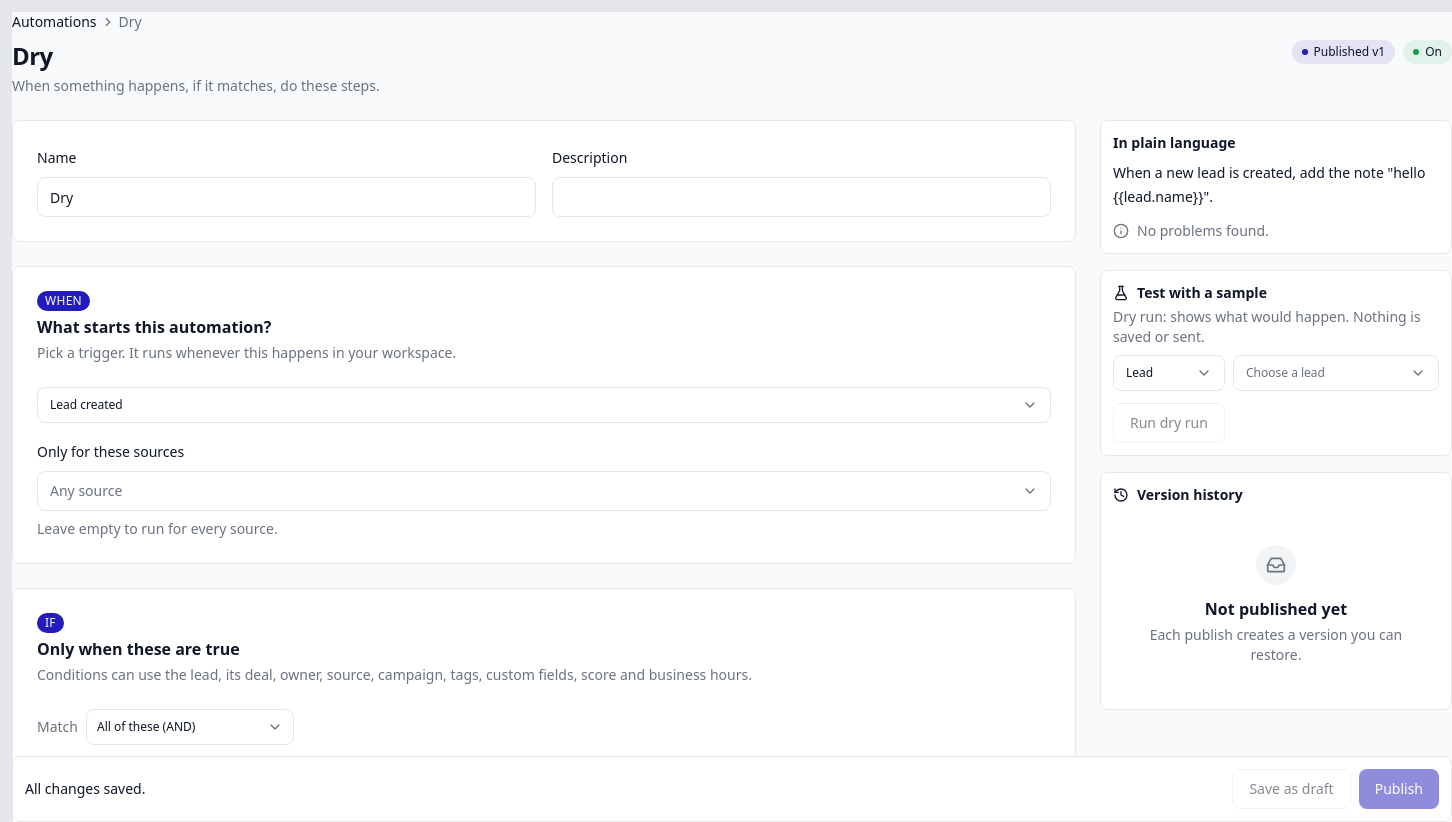
Test: automation builder › runs a dry run against a sample lead and shows what would happen
The width and height of the screenshot is (1452, 822).
Click the dropdown named "Sample record".
click(1336, 373)  # box [1233, 355, 1439, 391]
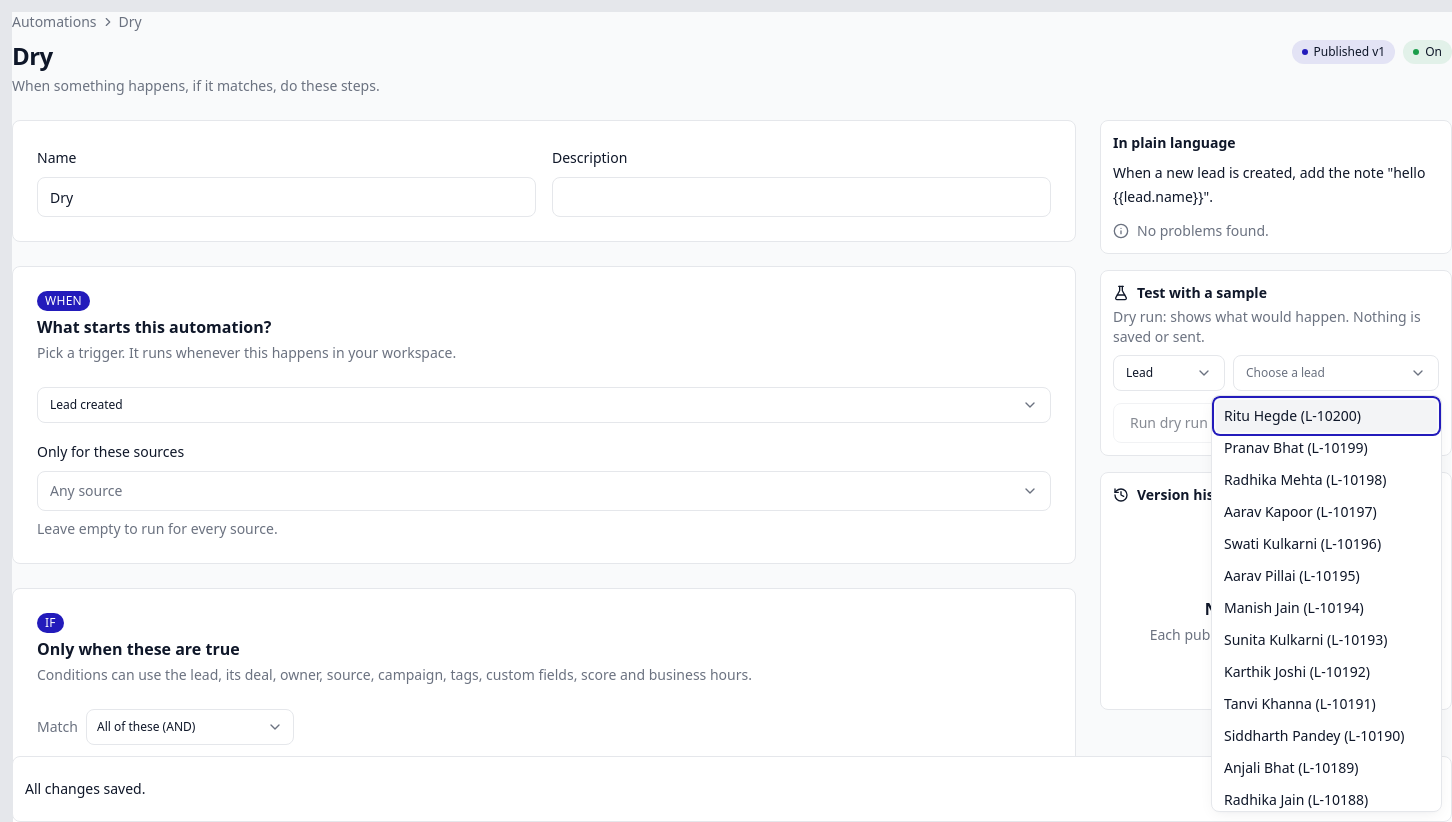
Click the option "Ritu Hegde (L-10200)".
click(1326, 416)  # box [1216, 400, 1437, 432]
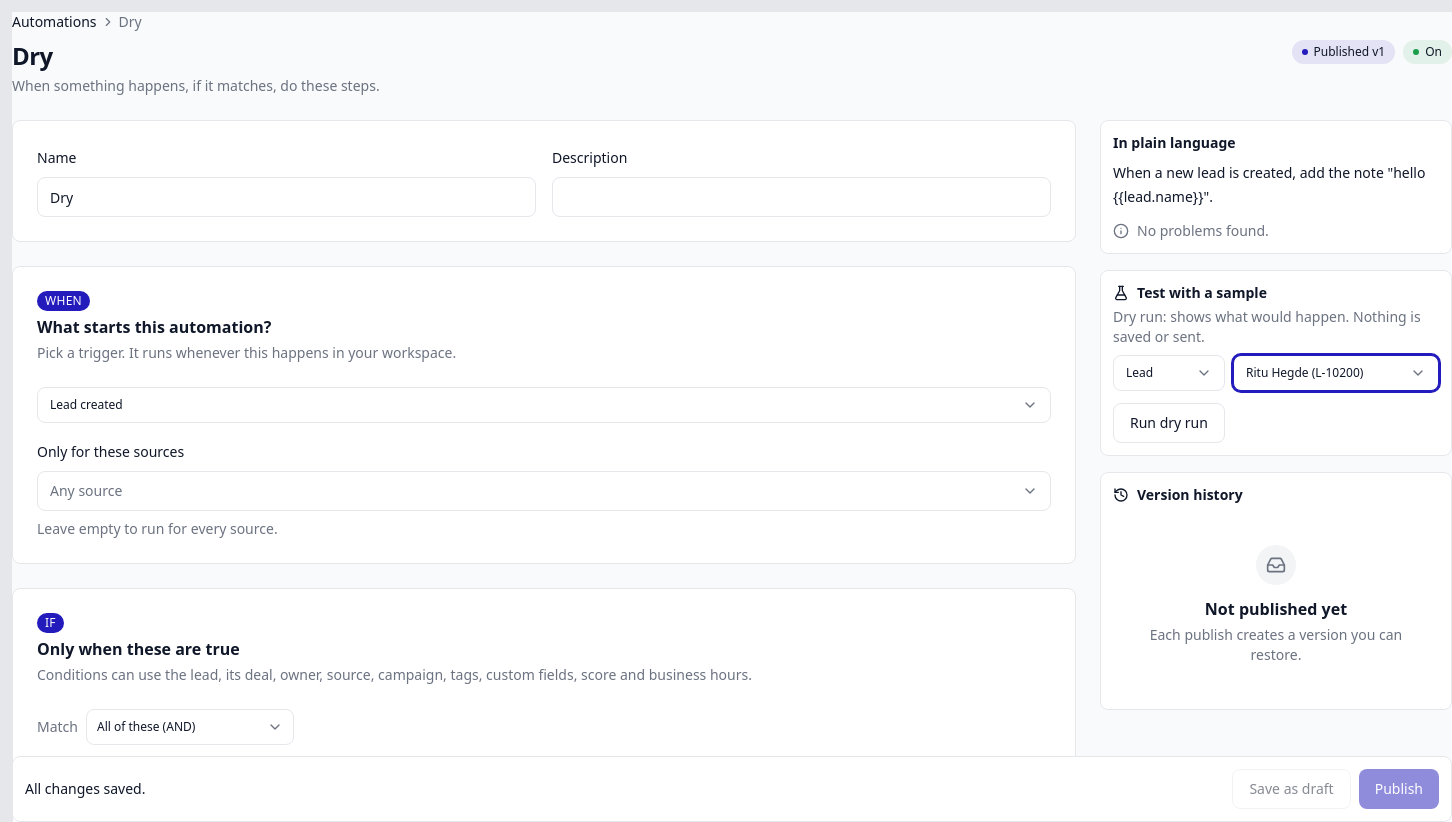
Click the button "Run dry run".
click(1169, 423)  # box [1113, 403, 1225, 443]
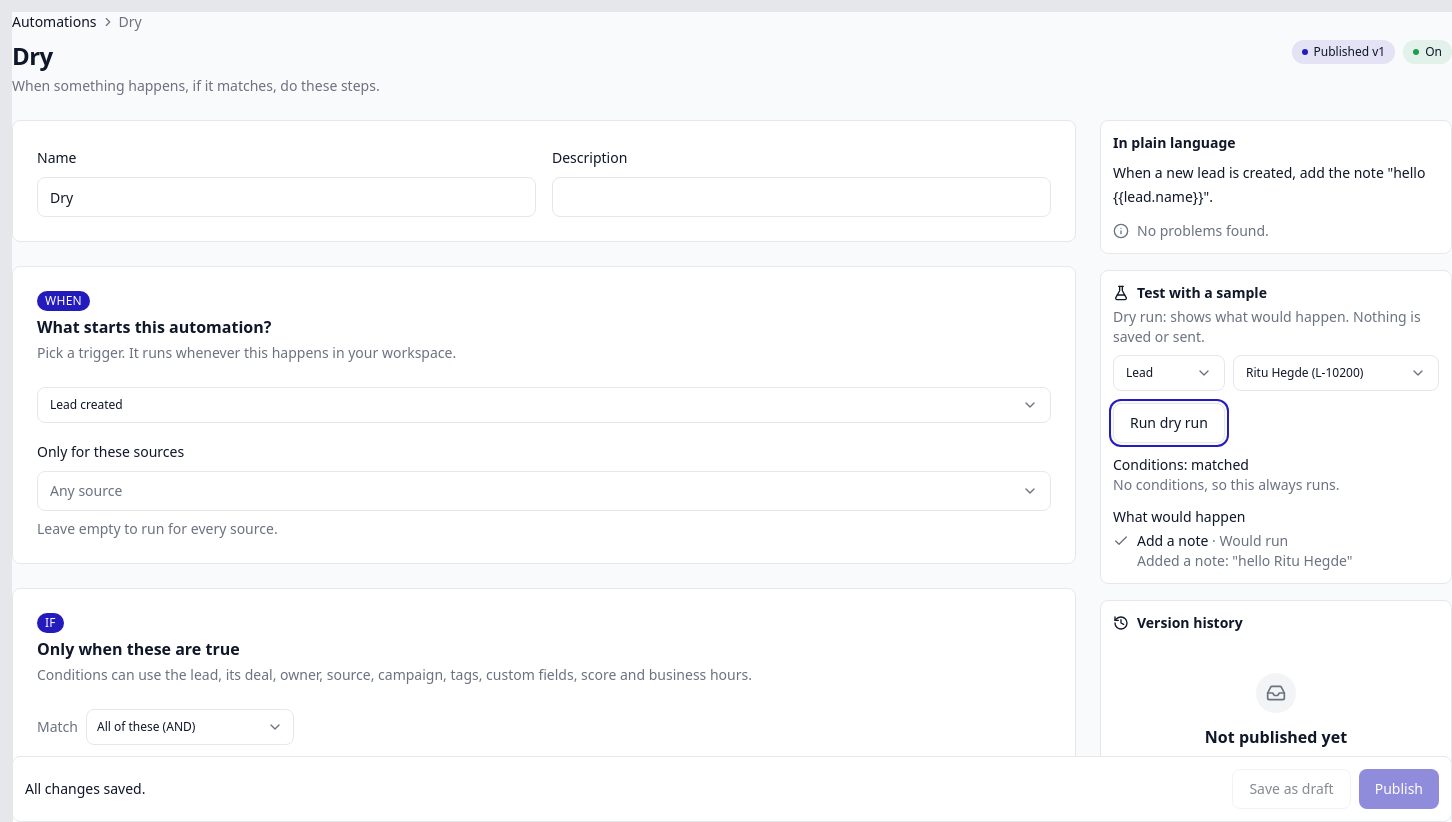
Expected: the heading "What would happen" is shown, [1113, 507, 1246, 526]
Expected: the text "Added a note: \"hello Ritu Hegde\"" is shown, [1137, 551, 1352, 571]
